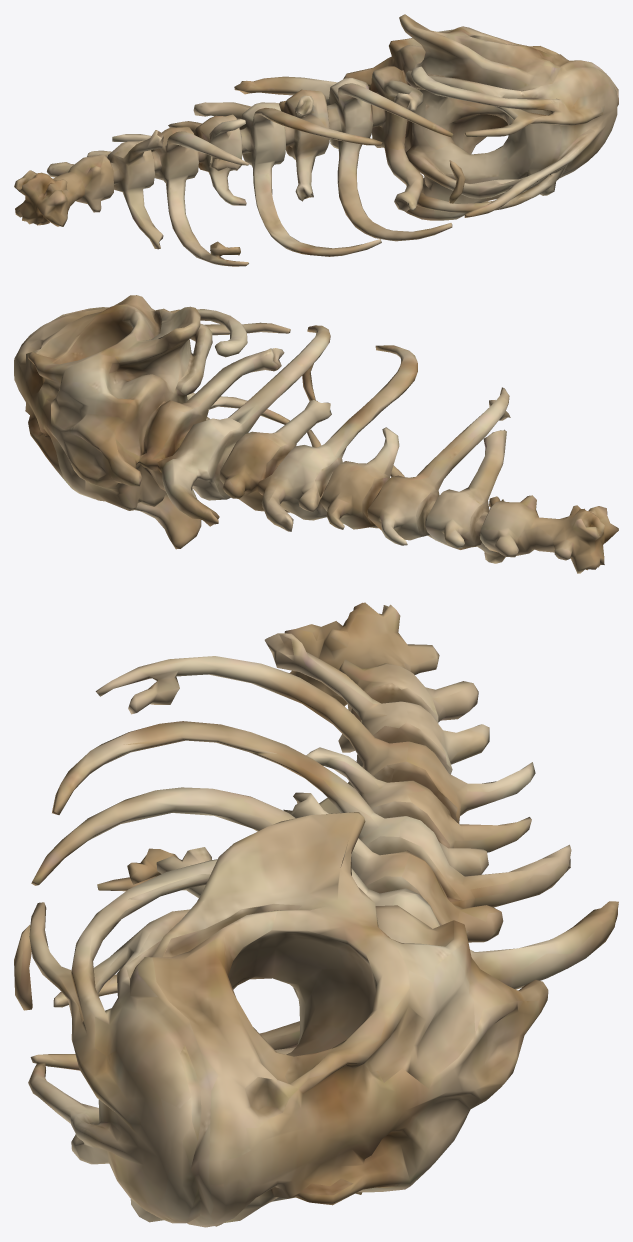
The model's file is bone_broken_m.glb.
The picture shows the model from 3 angles, top to bottom: view 1: azimuth 30°, elevation 25°; view 2: azimuth 150°, elevation 25°; view 3: azimuth 270°, elevation 25°; orthographic projection. The views are drawn at different scales.
Parts seen in each view (by area): view 1: bone_broken_m; view 2: bone_broken_m; view 3: bone_broken_m.
Part boxes in pixels (x1=…): bone_broken_m: x1=14, y1=14, x2=618, y2=266; bone_broken_m: x1=14, y1=295, x2=618, y2=573; bone_broken_m: x1=14, y1=602, x2=618, y2=1227.
Size of the model in its own units: 0.3 by 0.0998 by 0.1432.
1 material, 1 textured.
